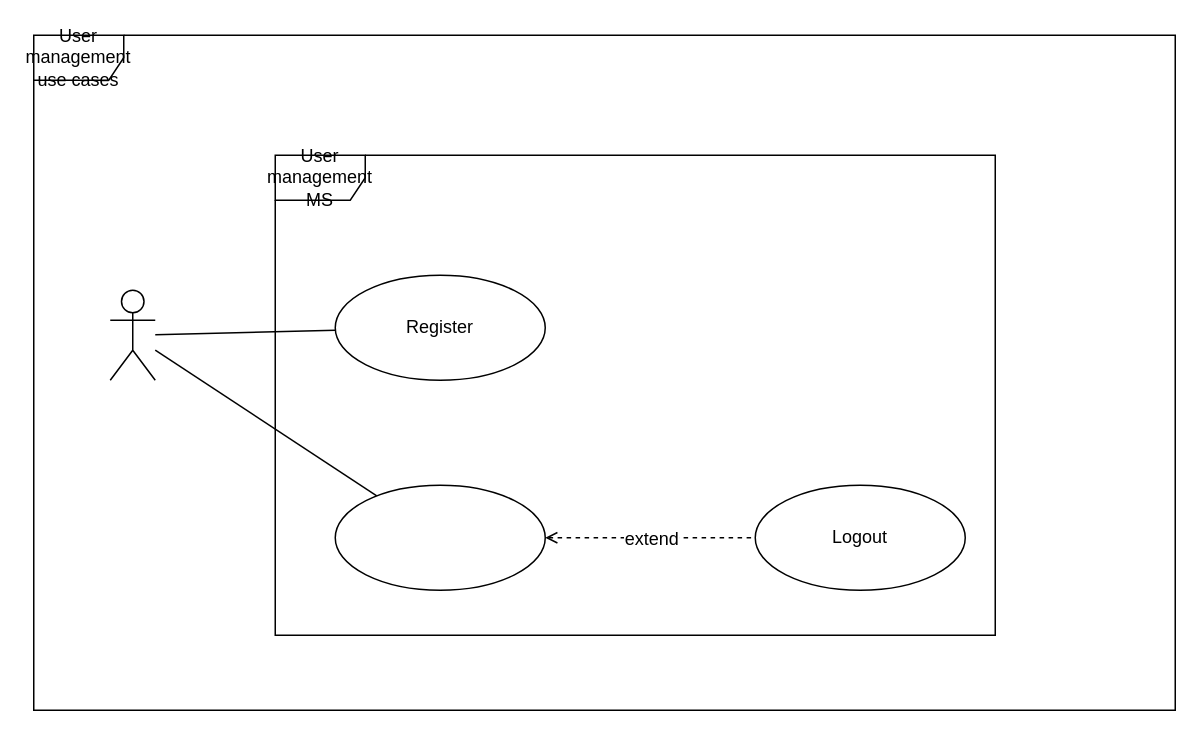
This 1202x737 diagram has some shape labels left out. The centre of each missing label's shape, as x and y in pixels:
"Login" belongs at pixel 439 537.
"User" belongs at pixel 132 334.
